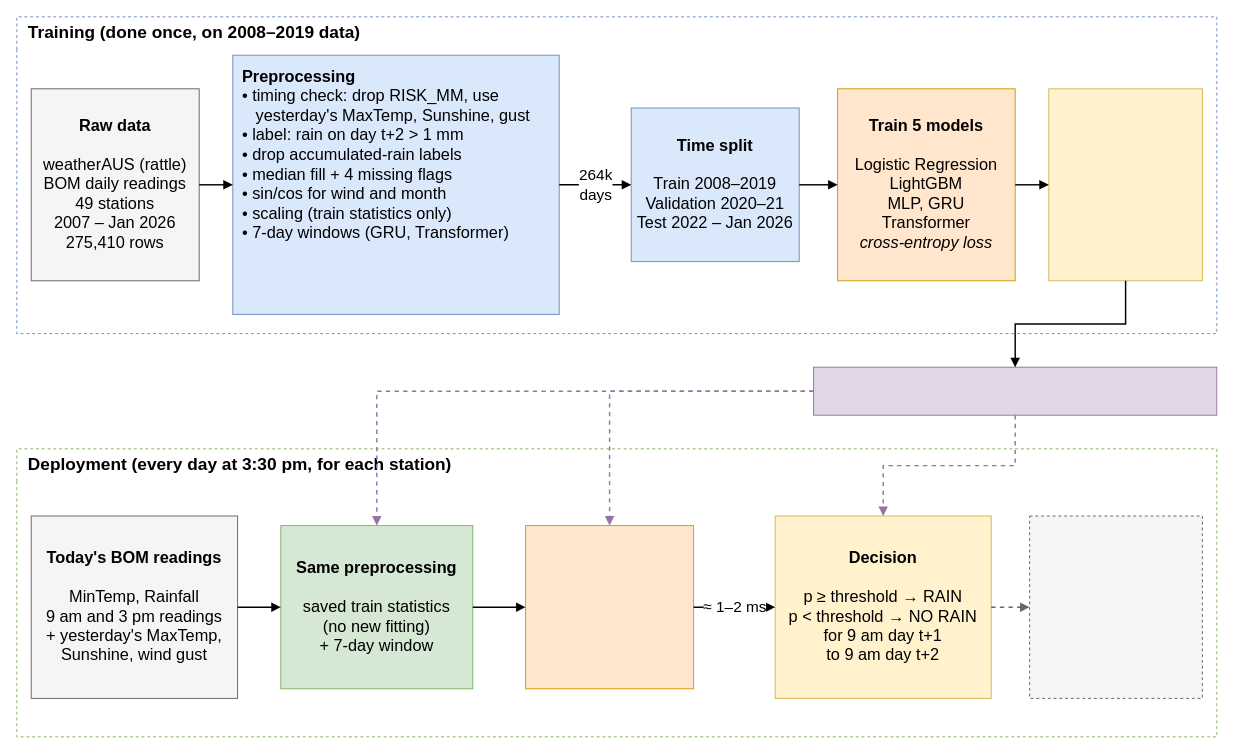
This 1234x754 diagram has some shape labels left out. The shapes that lost their labels are listed below. From the top down, each one's centre as x and y in pixels, then its label:
(x=1125, y=184): Threshold chosen on validation years cost FN : FP = 3 : 1 → 0.21 to 0.27
(x=1015, y=390): Saved: model + Prep statistics + threshold
(x=609, y=607): Model probability p e.g. "30% chance of rain"
(x=1115, y=606): Monitoring recall on heavy rain, Brier score, calibration → retrain if it drops
